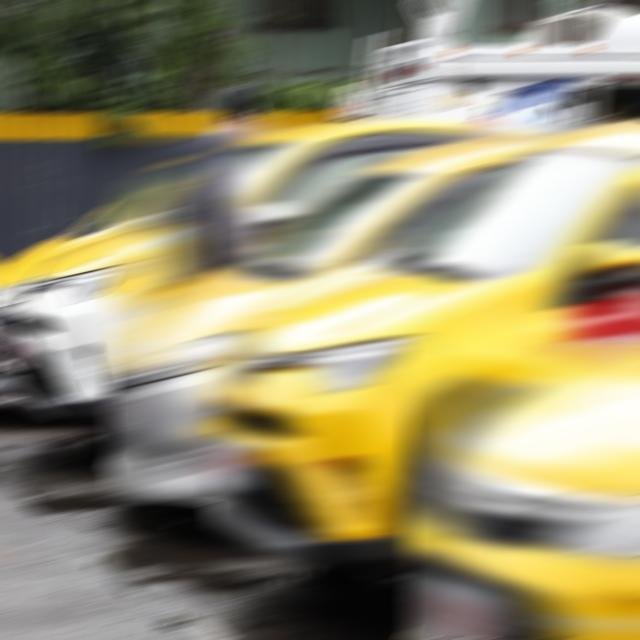Door: (206, 122, 640, 567), (404, 344, 640, 638)
Taxi: (106, 138, 546, 500)
